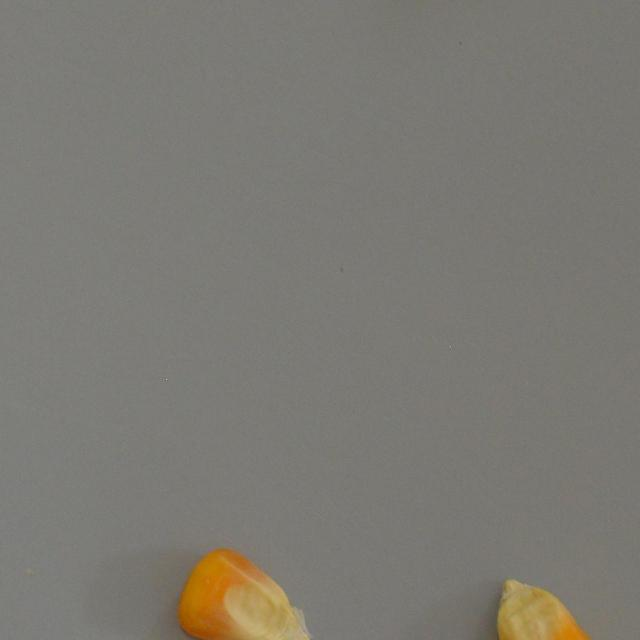entero: (170, 548, 314, 640), (487, 575, 608, 640)
